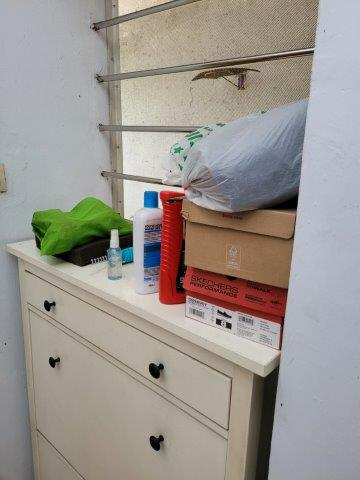plastik: (168, 94, 312, 213)
